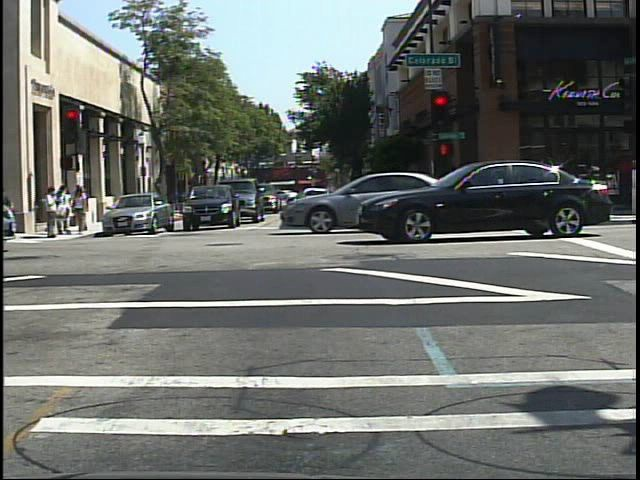person: (150, 181, 168, 218)
